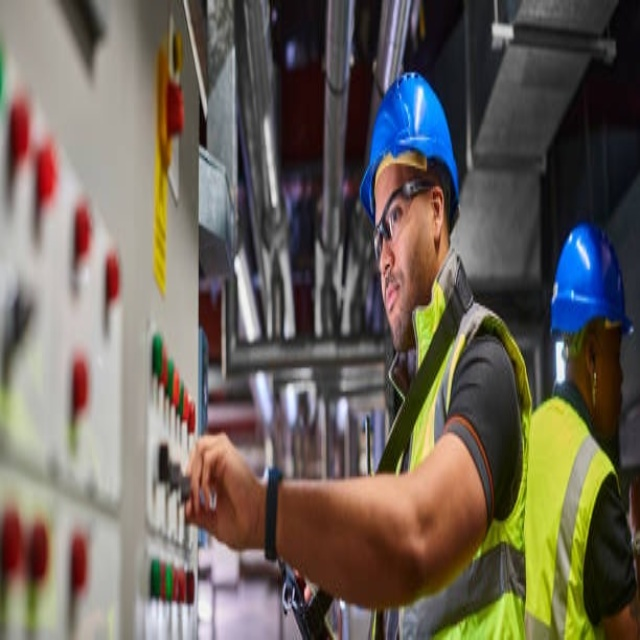Gafas: (374, 174, 435, 262)
Sin_guantes: (185, 434, 259, 551)
Sin_mascara: (381, 264, 407, 329)
